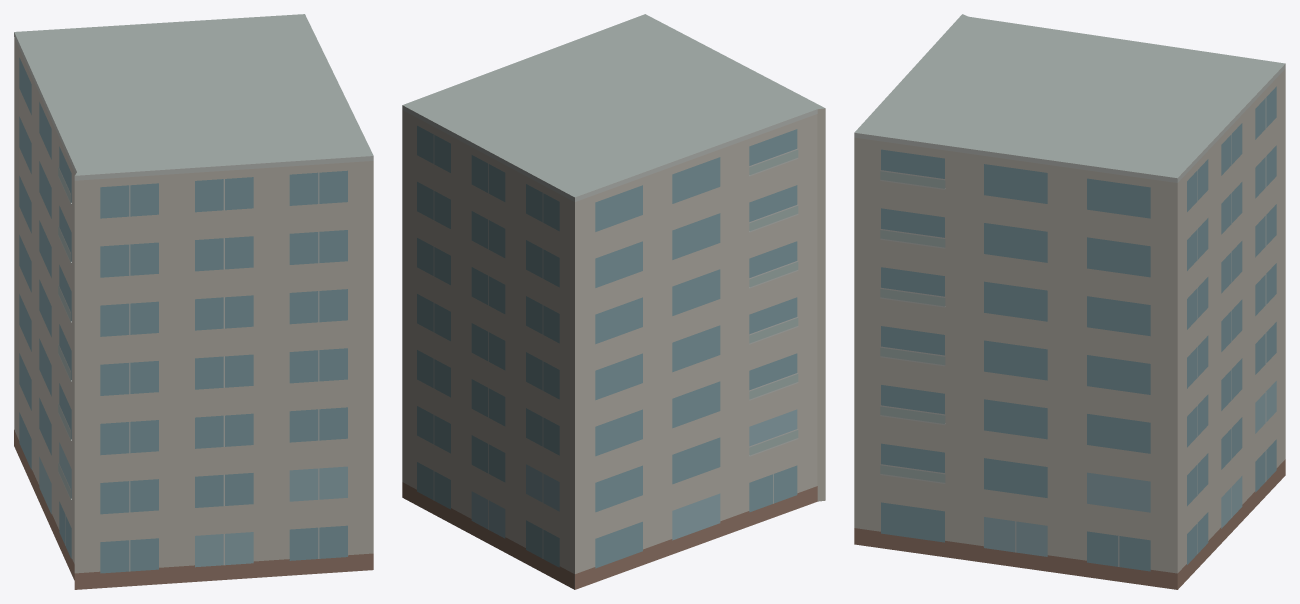
Rendered from survey-upis-32933201.glb.
3 views of the same model, side by side, from view 1: azimuth 30°, elevation 25°; view 2: azimuth 150°, elevation 25°; view 3: azimuth 270°, elevation 25° (orthographic). The views are drawn at different scales.
Parts seen in each view (by area): view 1: survey-upis-32933201.tmp; view 2: survey-upis-32933201.tmp; view 3: survey-upis-32933201.tmp.
Boxes of the visible parts, <box> form: survey-upis-32933201.tmp: <box>14,14,373,589</box>; survey-upis-32933201.tmp: <box>402,14,825,589</box>; survey-upis-32933201.tmp: <box>854,14,1285,589</box>.
Bounding box in the file's own units: 17.5 × 20.45 × 19.43.
